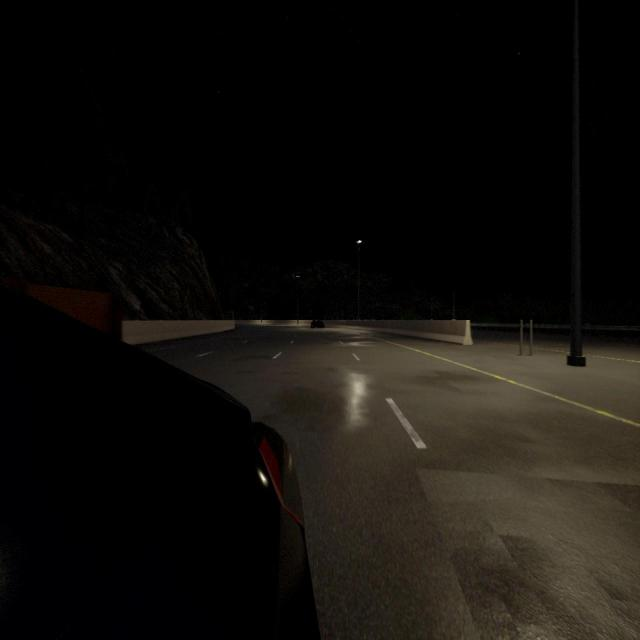Vehicle: (0, 293, 318, 639), (310, 317, 324, 328)
